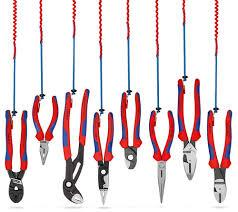pliers: (60, 86, 89, 211), (176, 77, 201, 180), (205, 108, 231, 206), (148, 109, 174, 206), (31, 93, 58, 164)
